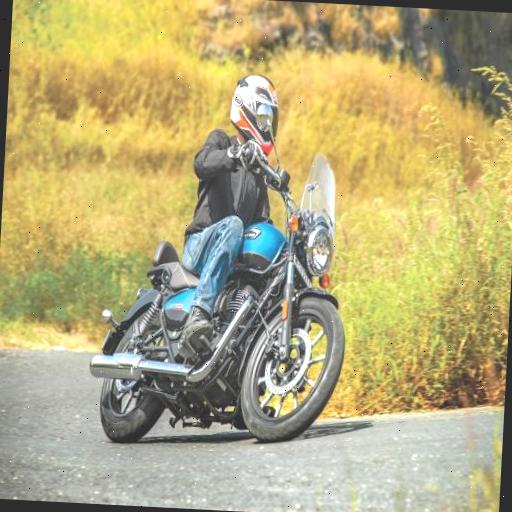helmet: (158, 54, 306, 430)
